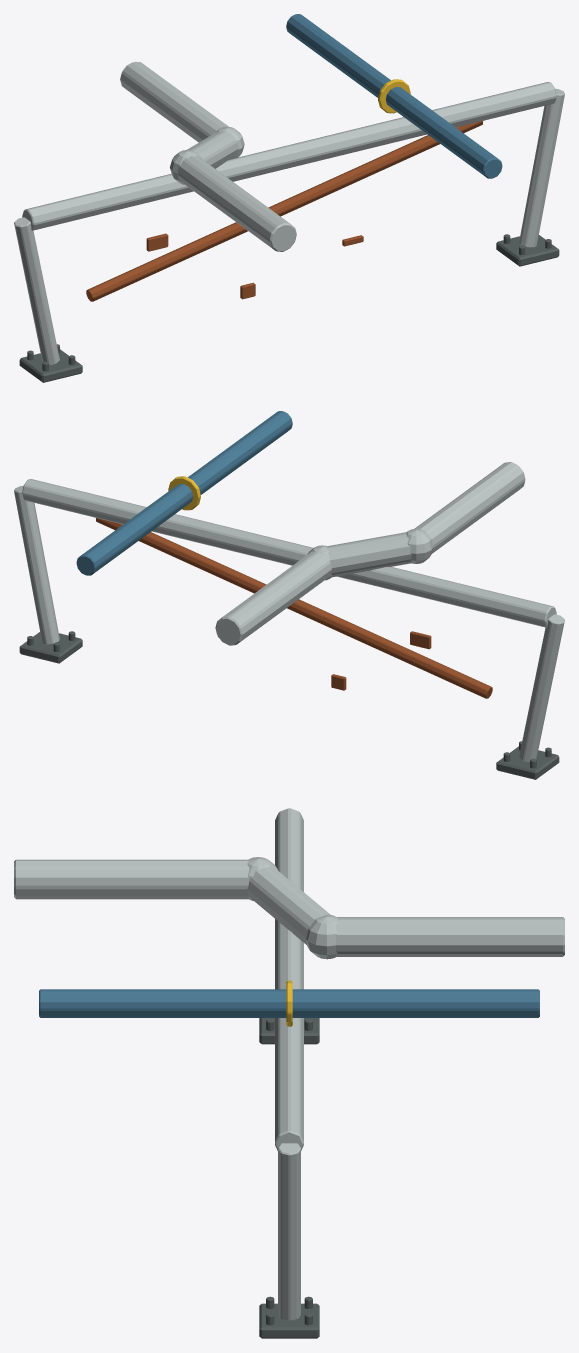
Rendered from runtime.glb.
3 renders of one model, top to bottom at view 1: azimuth 30°, elevation 25°; view 2: azimuth 150°, elevation 25°; view 3: azimuth 270°, elevation 25°, orthographic. The views are drawn at different scales.
Visible parts, largest first — view 1: reactor-pipe-support-v10_nocol; view 2: reactor-pipe-support-v10_nocol; view 3: reactor-pipe-support-v10_nocol.
Part boxes in pixels (x1,y1,x2,y2): reactor-pipe-support-v10_nocol: (14, 14, 564, 382); reactor-pipe-support-v10_nocol: (14, 411, 564, 779); reactor-pipe-support-v10_nocol: (14, 808, 564, 1338).
Size of the model in its own units: 6.4 by 2.3 by 4.4.
